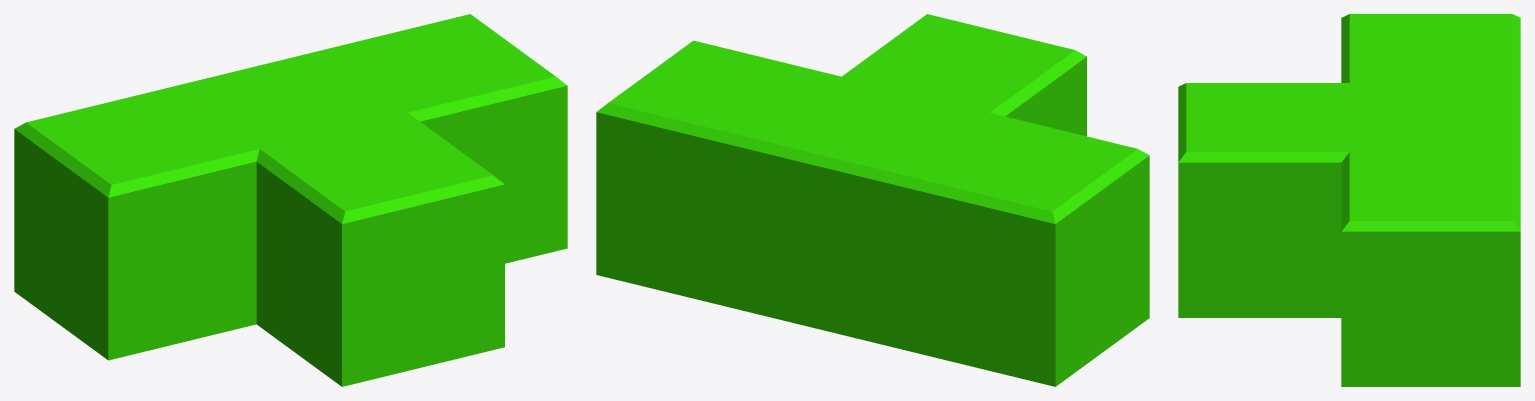
File: basic_T_1.fbx
3 views of the same model, side by side, from view 1: azimuth 30°, elevation 25°; view 2: azimuth 150°, elevation 25°; view 3: azimuth 270°, elevation 25° (orthographic). The views are drawn at different scales.
Visible parts, largest first — view 1: basic_T_1; view 2: basic_T_1; view 3: basic_T_1.
Boxes of the visible parts, left/top/right/bottom form: basic_T_1: left=14, top=14, right=567, bottom=386; basic_T_1: left=596, top=14, right=1149, bottom=386; basic_T_1: left=1178, top=14, right=1520, bottom=386.
Bounding box in the file's own units: 310 × 110 × 210.
